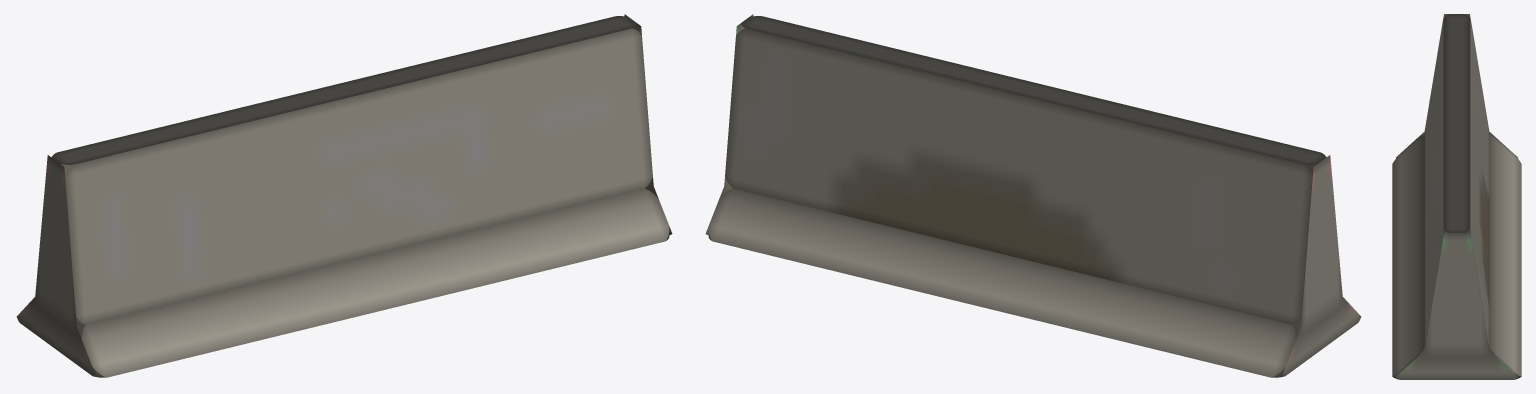
The model's file is roadblock.fbx.
The picture shows the model from 3 angles, left to right: view 1: azimuth 30°, elevation 25°; view 2: azimuth 150°, elevation 25°; view 3: azimuth 270°, elevation 25°; orthographic projection. The views are drawn at different scales.
Parts seen in each view (by area): view 1: cuboid; view 2: cuboid; view 3: cuboid.
Boxes of the visible parts, x1,y1,x2,y2 form: cuboid: (16,14,672,377); cuboid: (705,14,1361,377); cuboid: (1392,14,1521,379).
Size of the model in its own units: 100 by 31.25 by 25.
1 material, 1 textured.
